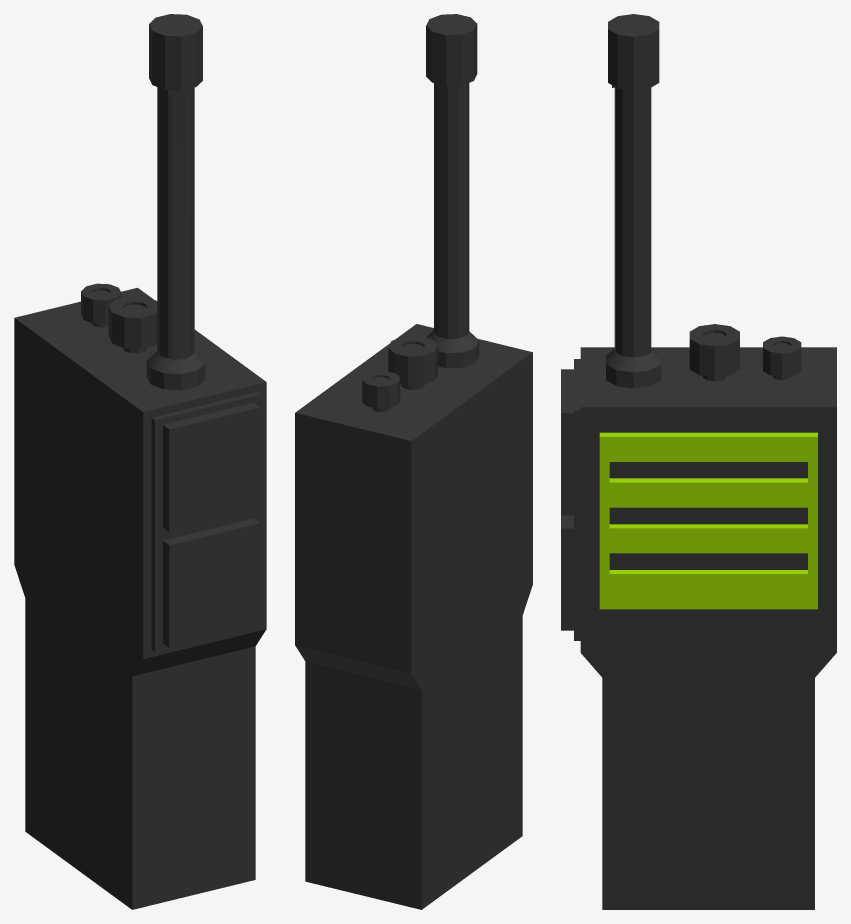
File: walkieTalkie.fbx
3 renders of one model, left to right at view 1: azimuth 30°, elevation 25°; view 2: azimuth 150°, elevation 25°; view 3: azimuth 270°, elevation 25°, orthographic. The views are drawn at different scales.
Visible parts, largest first — view 1: pCube1, pCylinder1, pCylinder2, pasted__pCylinder2; view 2: pCube1, pCylinder1, pCylinder2, pasted__pCylinder2; view 3: pCube1, pasted__pCube2, pCylinder1, pCylinder2, pasted__pCylinder2.
Part boxes in pixels (x1,y1,x2,y2): pCube1: [14, 287, 266, 909]; pCylinder1: [146, 14, 205, 390]; pCylinder2: [108, 296, 157, 353]; pasted__pCylinder2: [81, 283, 121, 327]; pCube1: [295, 324, 532, 909]; pCylinder1: [426, 14, 479, 368]; pCylinder2: [388, 336, 438, 389]; pasted__pCylinder2: [362, 371, 400, 412]; pCube1: [561, 347, 836, 909]; pasted__pCube2: [599, 432, 817, 609]; pCylinder1: [606, 14, 661, 388]; pCylinder2: [689, 324, 739, 381]; pasted__pCylinder2: [763, 336, 801, 380].
Bounding box in the file's own units: 3.01 × 18.68 × 5.47.
